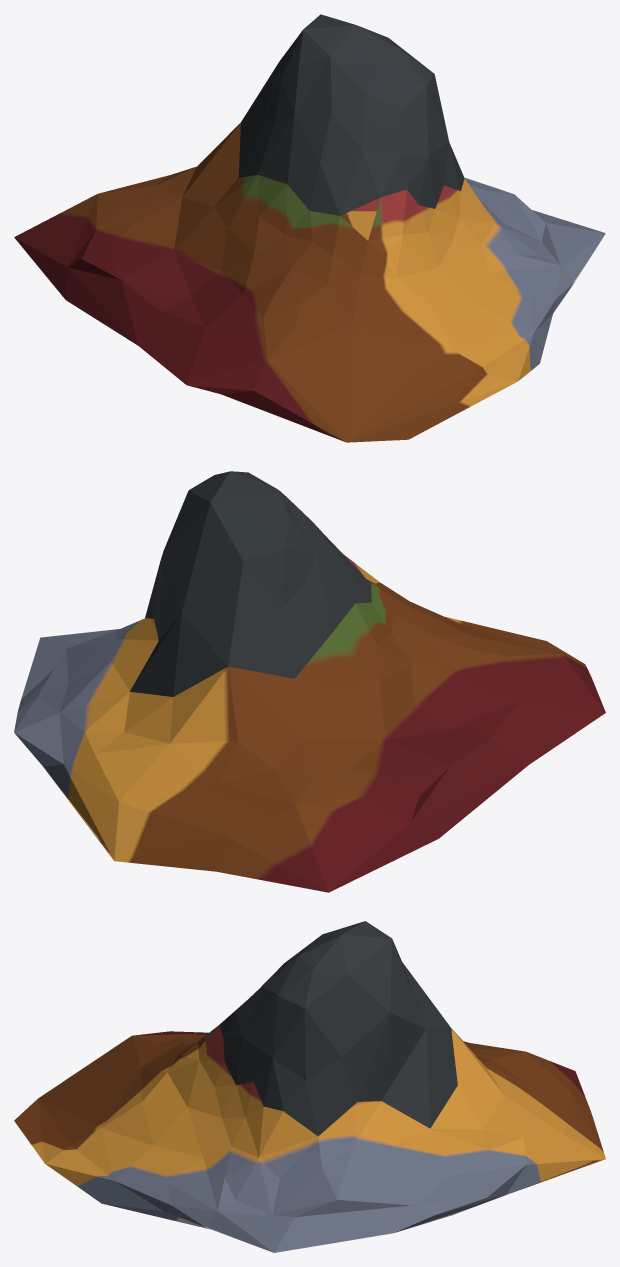
File: Mountain_03.fbx
The picture shows the model from 3 angles, top to bottom: view 1: azimuth 30°, elevation 25°; view 2: azimuth 150°, elevation 25°; view 3: azimuth 270°, elevation 25°; orthographic projection. The views are drawn at different scales.
Visible parts, largest first — view 1: Mountain_03; view 2: Mountain_03; view 3: Mountain_03.
Part boxes in pixels (<box>): Mountain_03: <box>14,14,605,442</box>; Mountain_03: <box>14,471,605,892</box>; Mountain_03: <box>14,921,605,1252</box>.
Bounding box in the file's own units: 69.8 × 36.36 × 80.37.
